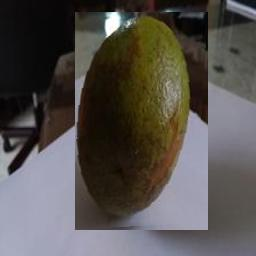Orange Semifresh: (75, 12, 208, 230)
